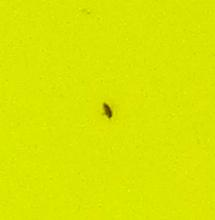Brachycera: (100, 100, 115, 120)
